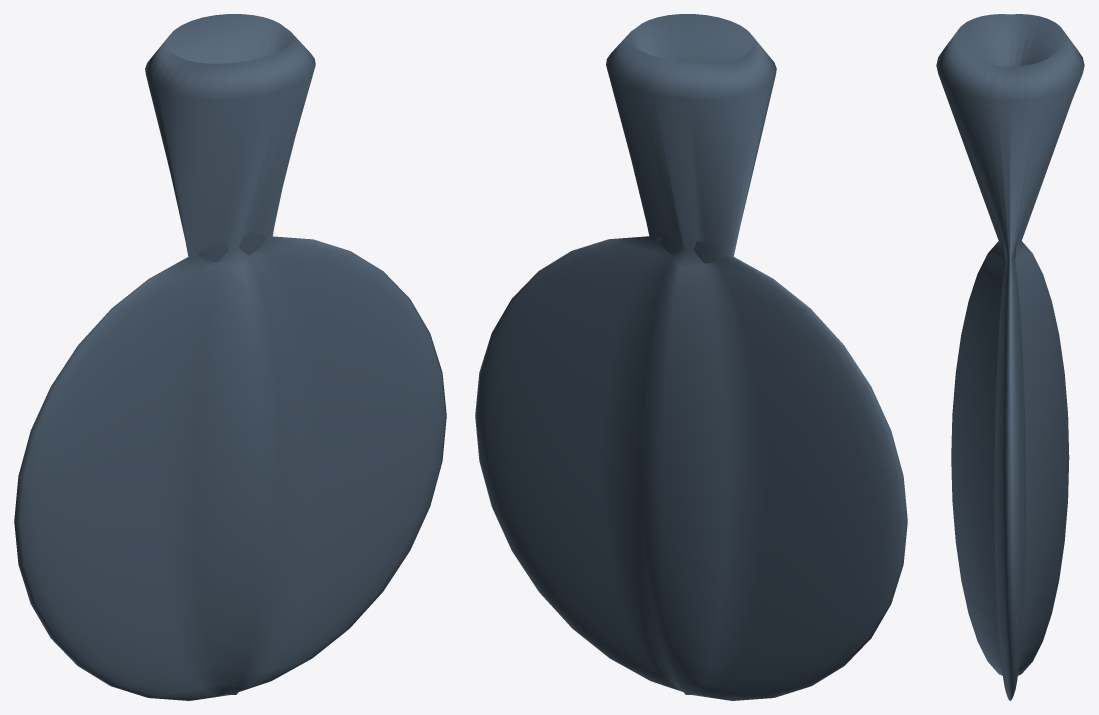
Rendered from drone_gun.glb.
3 views of the same model, side by side, from view 1: azimuth 30°, elevation 25°; view 2: azimuth 150°, elevation 25°; view 3: azimuth 270°, elevation 25° (orthographic). The views are drawn at different scales.
Visible parts, largest first — view 1: gun; view 2: gun; view 3: gun.
Boxes of the visible parts, left/top/right/bottom form: gun: left=14, top=14, right=446, bottom=700; gun: left=475, top=14, right=907, bottom=700; gun: left=936, top=14, right=1084, bottom=700.
Bounding box in the file's own units: 0.046 × 0.0667 × 0.014.
